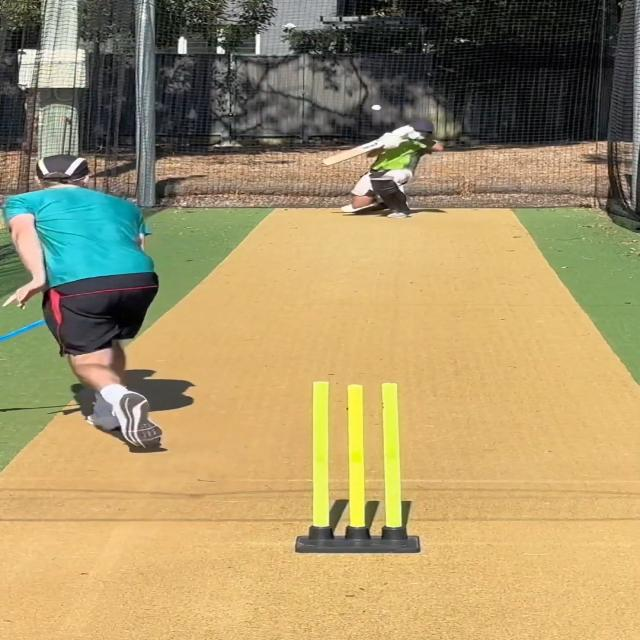stump: (292, 380, 426, 554)
